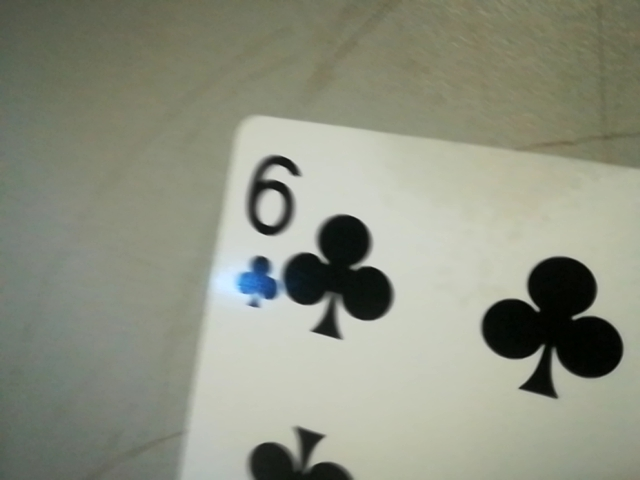mh 6: (229, 142, 303, 317)
